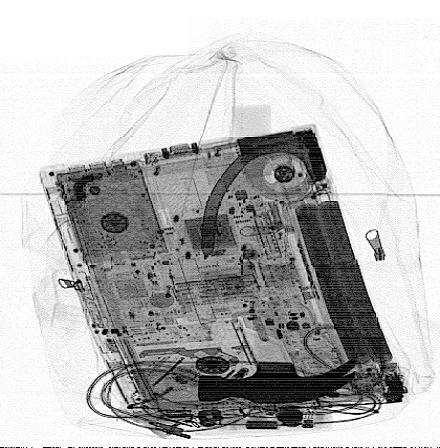Hammer: (197, 106, 357, 403)
